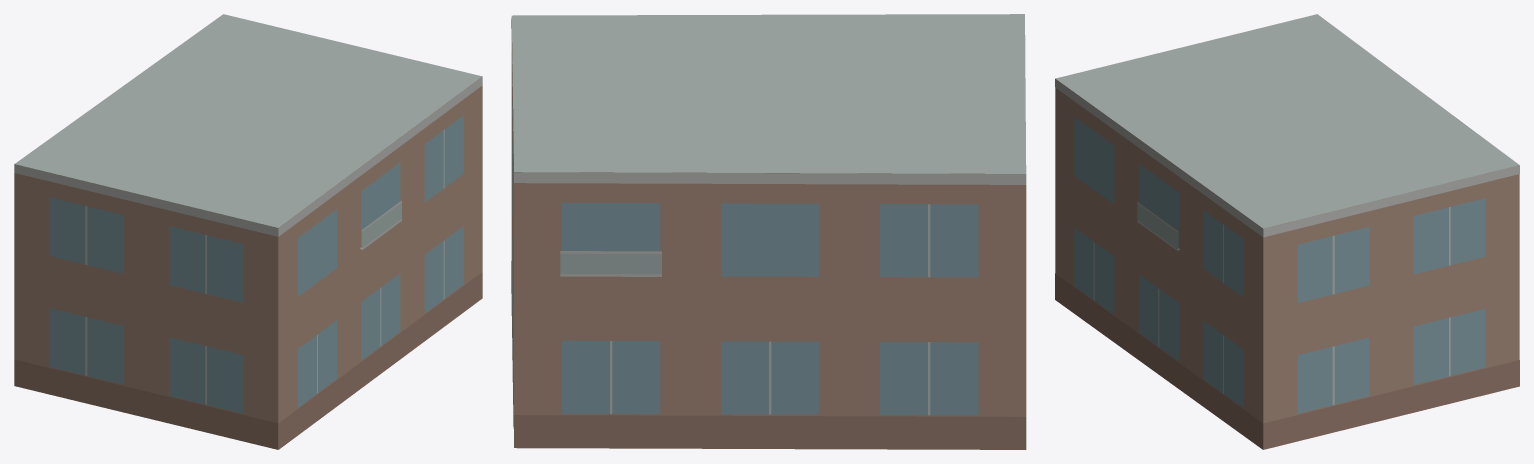
File: survey-upis-32597012.glb
3 views of the same model, side by side, from view 1: azimuth 30°, elevation 25°; view 2: azimuth 150°, elevation 25°; view 3: azimuth 270°, elevation 25° (orthographic). The views are drawn at different scales.
Parts seen in each view (by area): view 1: survey-upis-32597012.tmp; view 2: survey-upis-32597012.tmp; view 3: survey-upis-32597012.tmp.
Boxes of the visible parts, x1,y1,x2,y2 form: survey-upis-32597012.tmp: [14, 14, 482, 449]; survey-upis-32597012.tmp: [511, 14, 1026, 449]; survey-upis-32597012.tmp: [1055, 14, 1519, 449].
Size of the model in its own units: 12.7 by 6.1 by 11.62.
